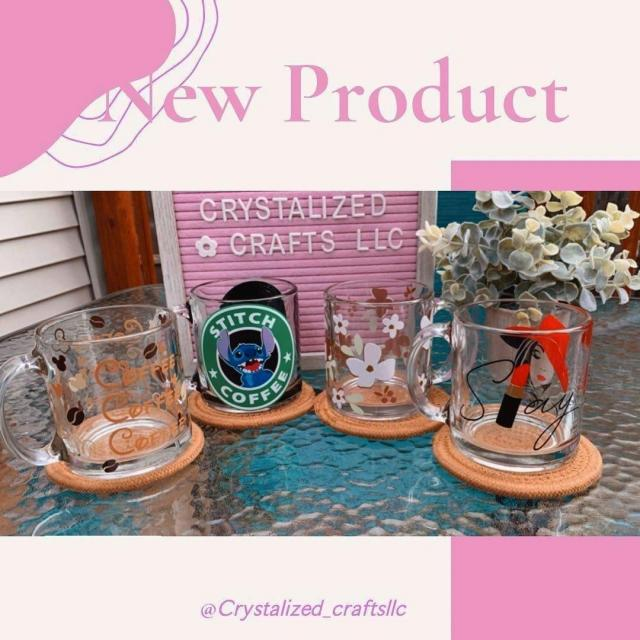glass-mug: (0, 294, 201, 482), (407, 298, 601, 478), (323, 268, 473, 422), (154, 276, 300, 415)
